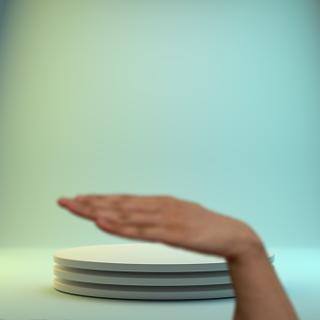WAIT: (54, 187, 258, 261)
